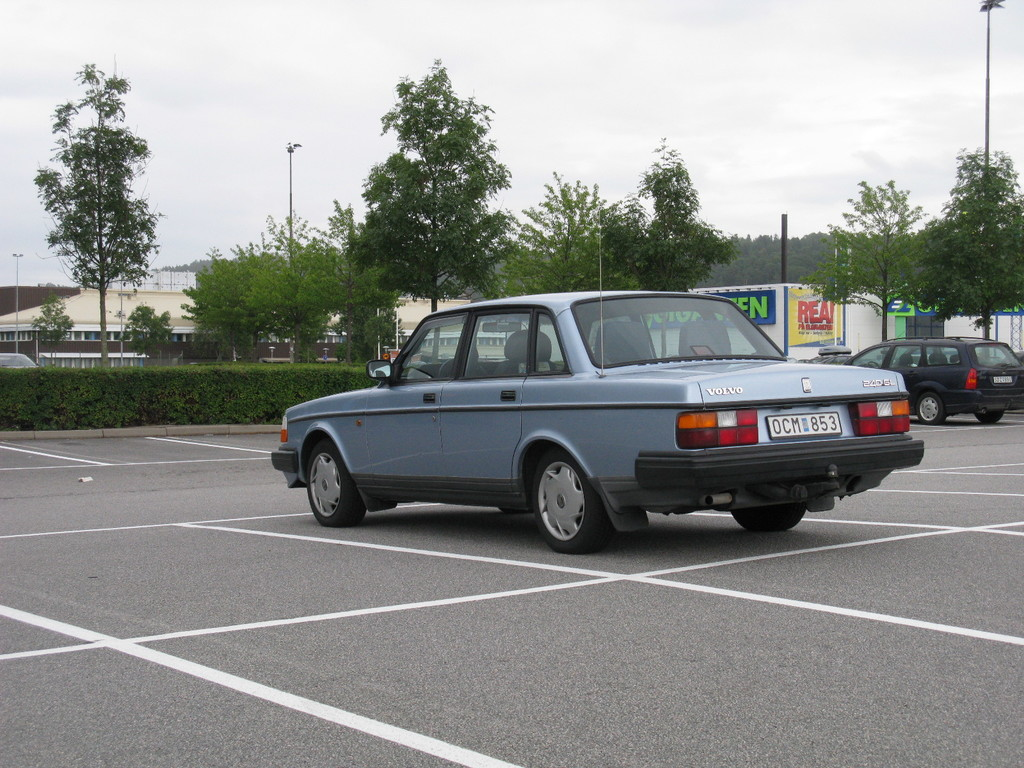Car: (266, 291, 933, 560), (845, 335, 1023, 423), (0, 350, 44, 368)
